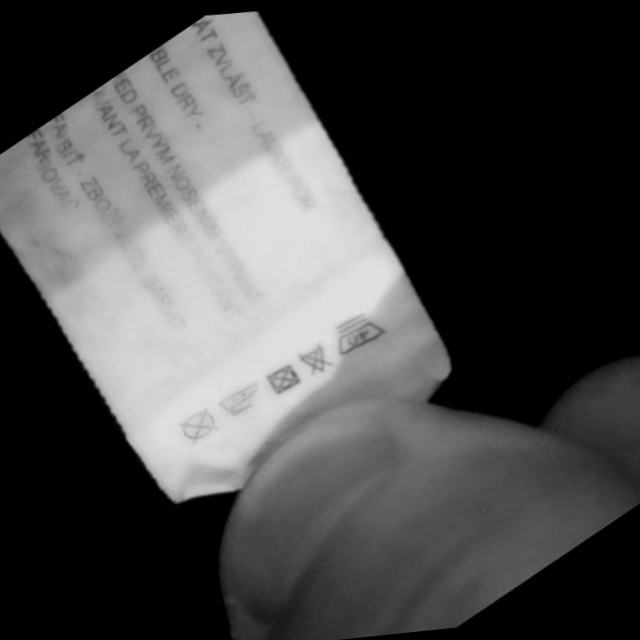40C: (332, 309, 391, 359)
DN_bleach: (300, 343, 334, 376)
DN_dry_clean: (178, 404, 221, 444)
DN_tumble_dry: (265, 361, 303, 397)
iron_low: (219, 377, 265, 418)
